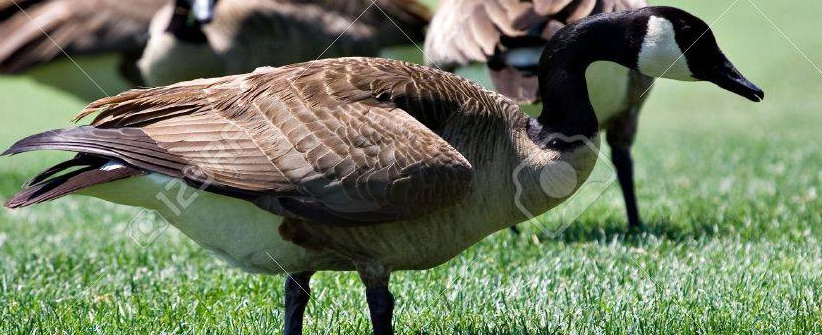goose: (9, 2, 774, 335)
